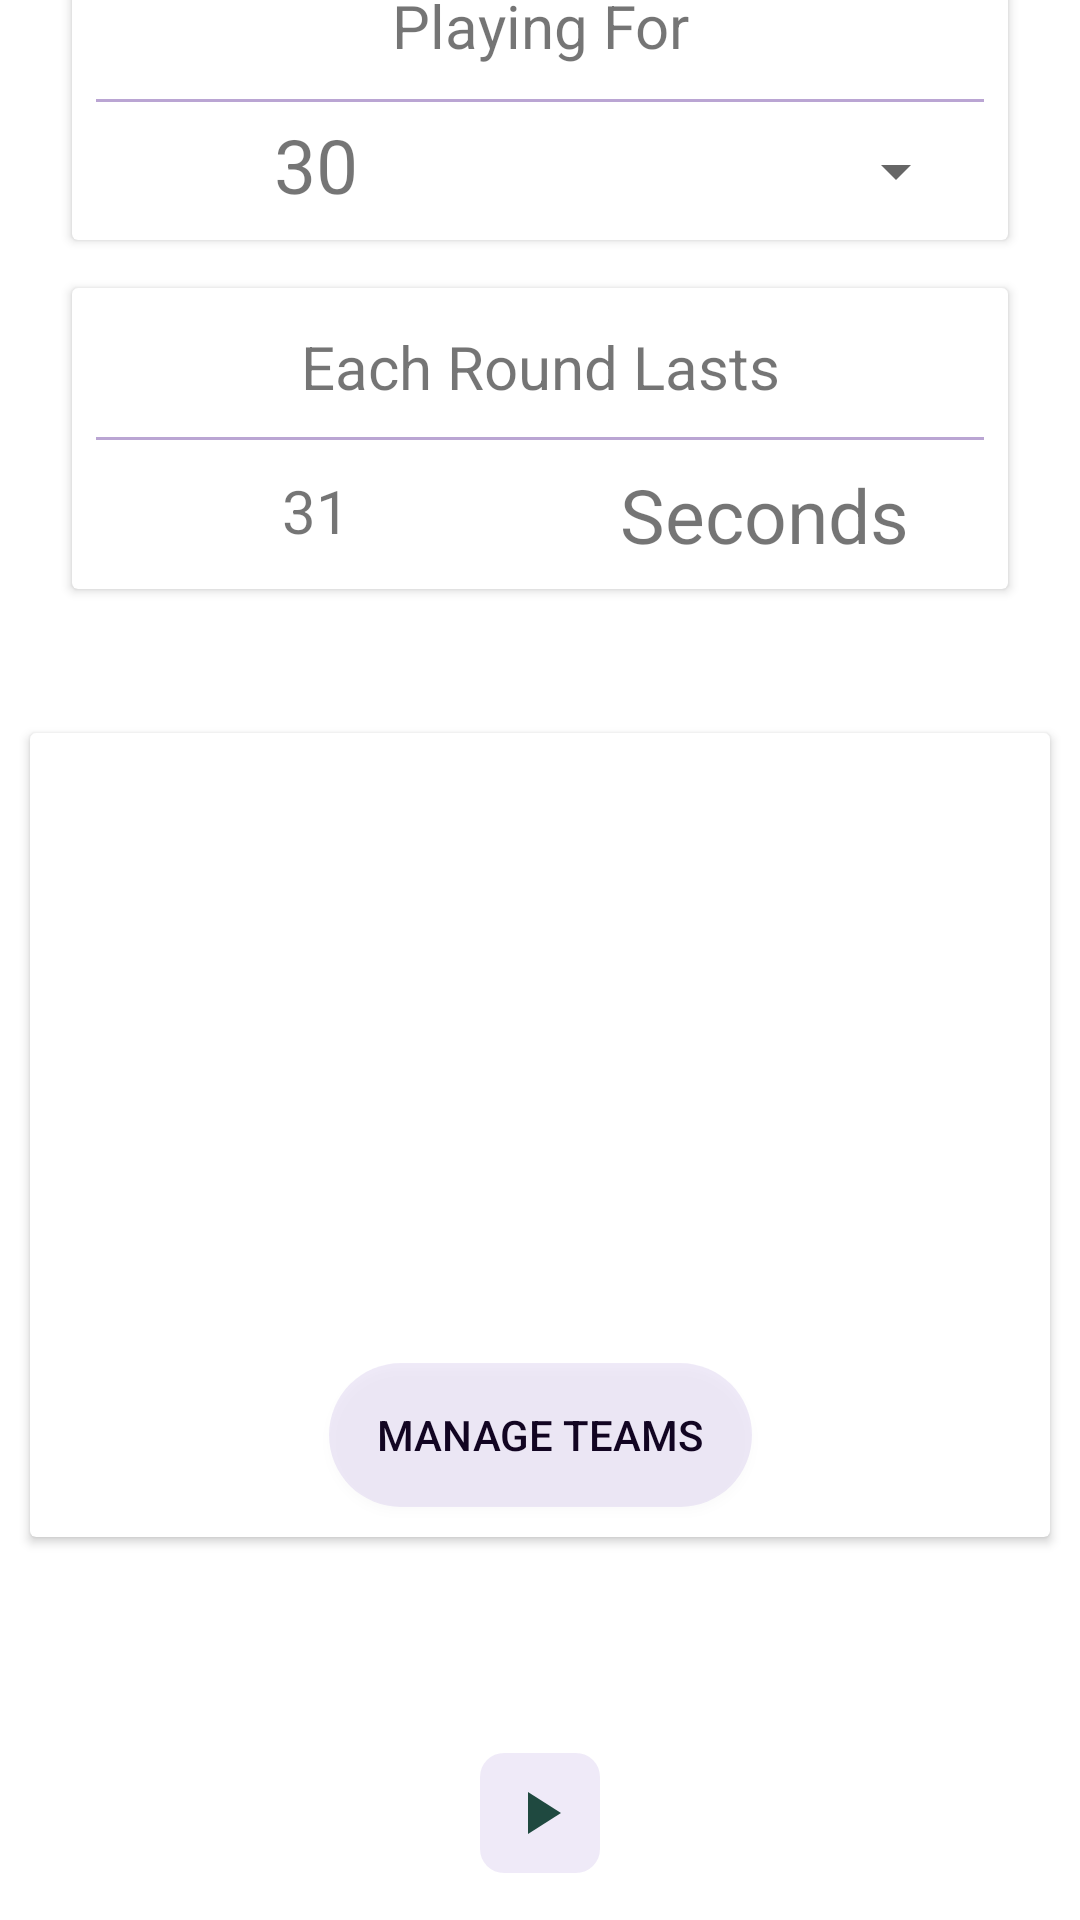

Icon click points for this 1080px×1920px phone screenshot, format point (x, y):
play arrow: point (544, 1813)
